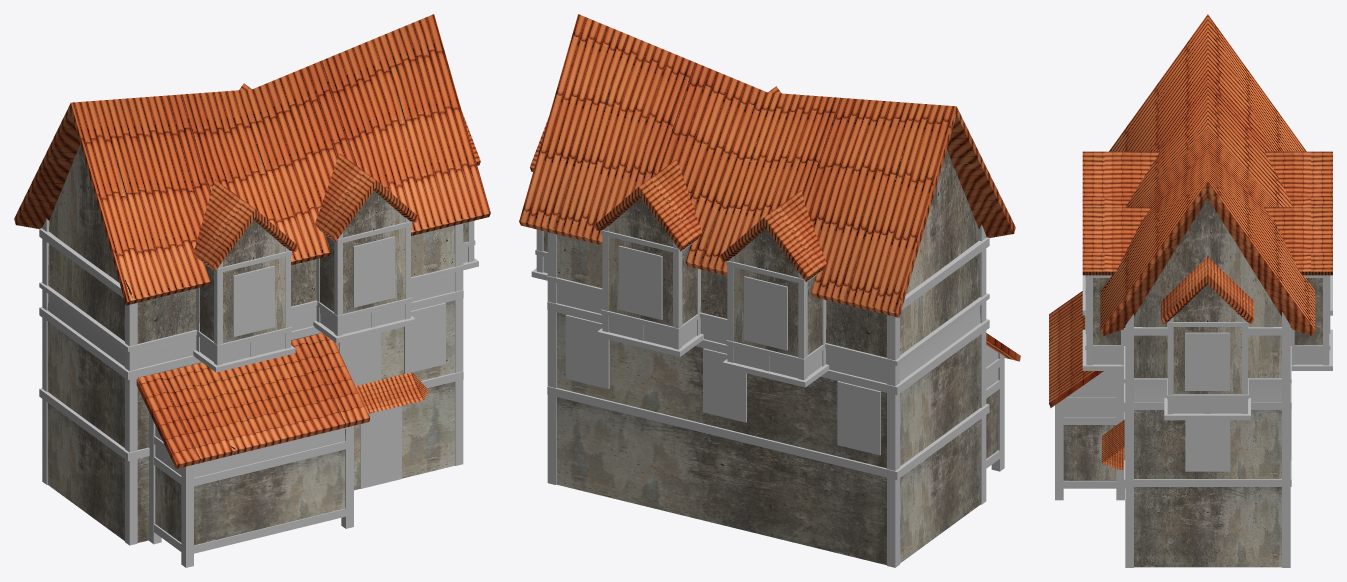
File: House_4.fbx
3 renders of one model, left to right at view 1: azimuth 30°, elevation 25°; view 2: azimuth 150°, elevation 25°; view 3: azimuth 270°, elevation 25°, orthographic. The views are drawn at different scales.
Parts seen in each view (by area): view 1: House_4; view 2: House_4; view 3: House_4.
Boxes of the visible parts, <box> form: House_4: <box>14,14,490,567</box>; House_4: <box>519,14,1020,567</box>; House_4: <box>1049,14,1332,567</box>.
Bounding box in the file's own units: 48.12 × 49.5 × 32.44.
